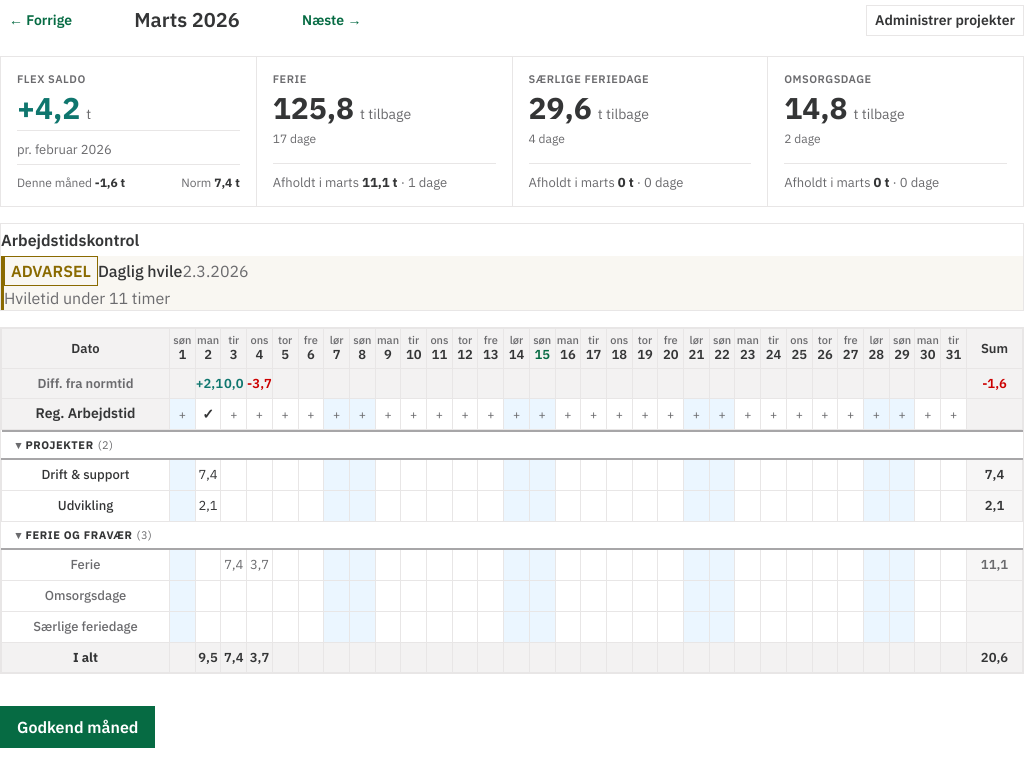
Test case: SkemaPage — R11/R16 manager modal wiring › R11/R16: a modal action FLUSHES the pending debounced save, PUTs, then refetches — in that order — and the grid updates live
Expected: the text "Drift & support" is shown, left=2, top=459, right=170, bottom=490
Expected: the cell does not show ""
A pending debounced cell edit (the 1s timer must NOT have fired)
Type "2" into the field named "Udvikling dag 3". click: (234, 506)
box: left=221, top=491, right=246, bottom=521
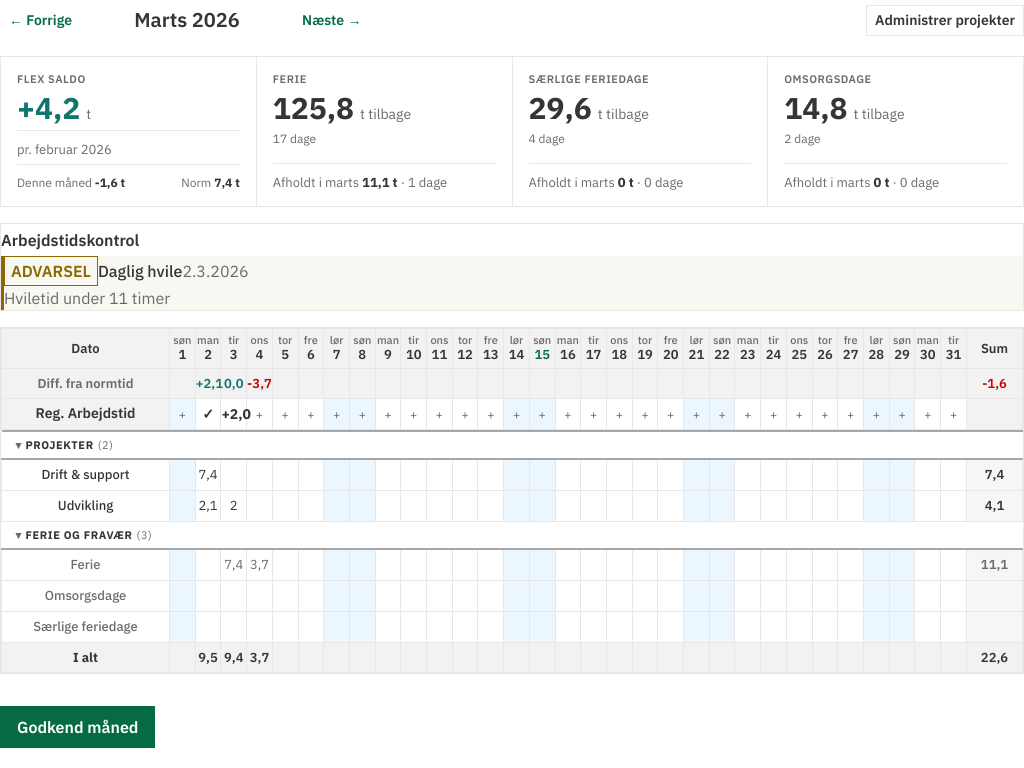
Modal action: remove the populated Drift row
Click the button "Administrer projekter". click: (945, 20)
box: left=866, top=4, right=1023, bottom=36
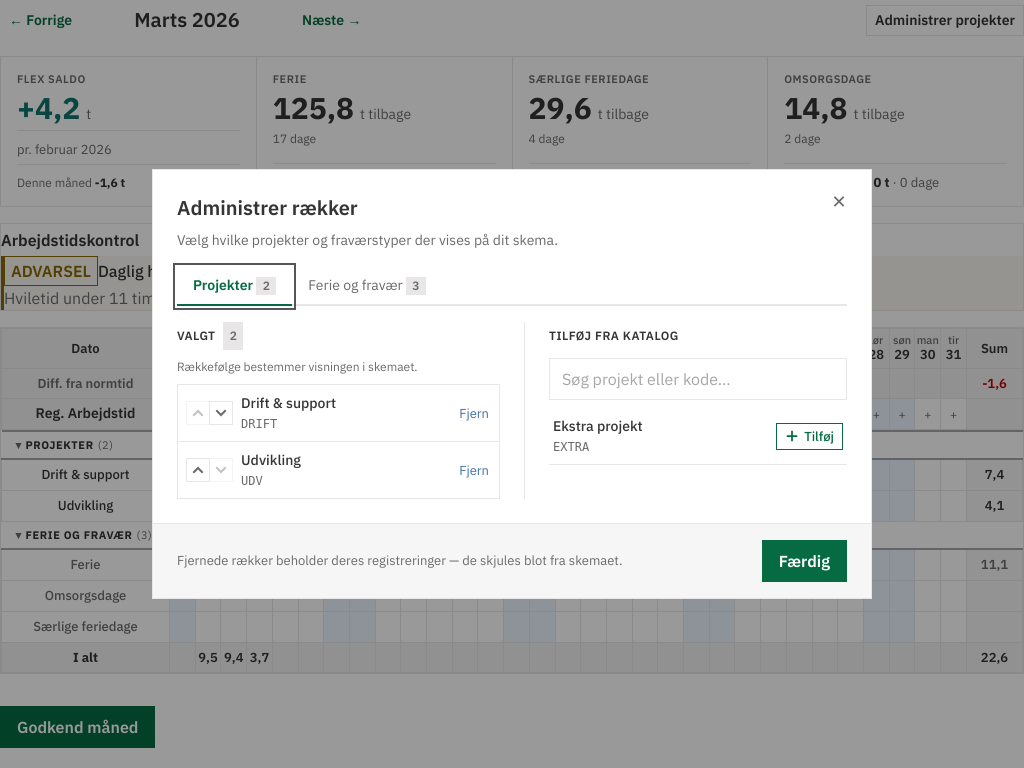
Expected: the heading "Administrer rækker" is shown, left=177, top=194, right=358, bottom=221
Click the button with aria-label "Fjern Drift & support". click: (474, 413)
box: left=457, top=400, right=491, bottom=426
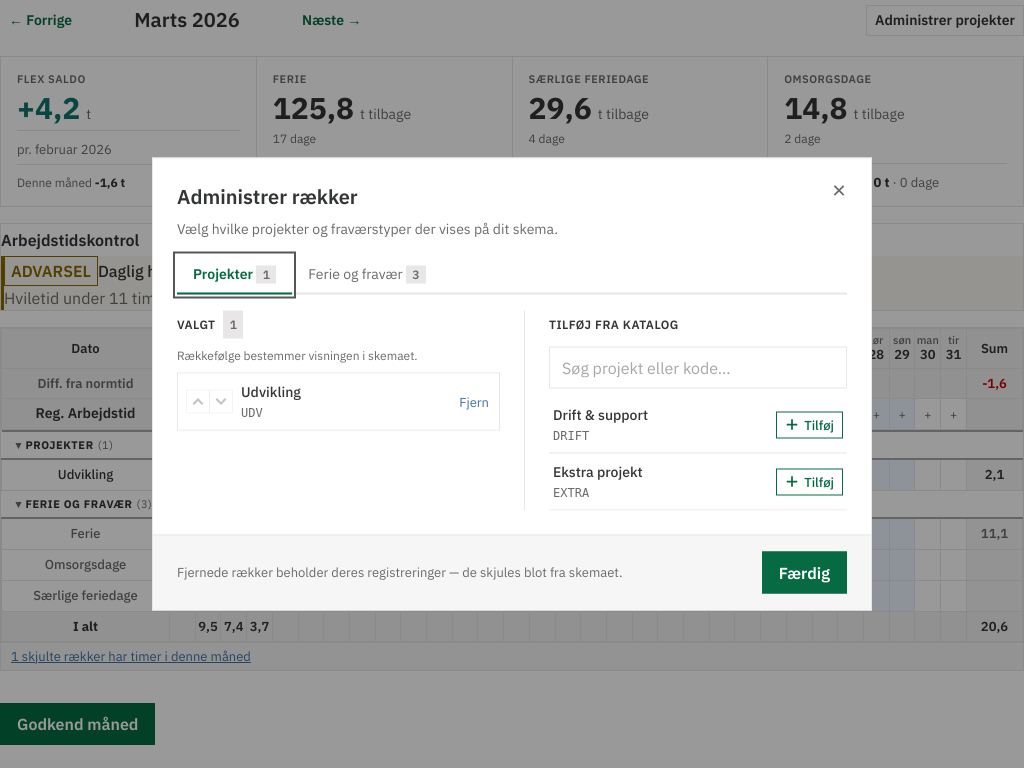
Expected: the button "1 skjulte rækker har timer i denne måned" is shown, left=11, top=648, right=251, bottom=665
